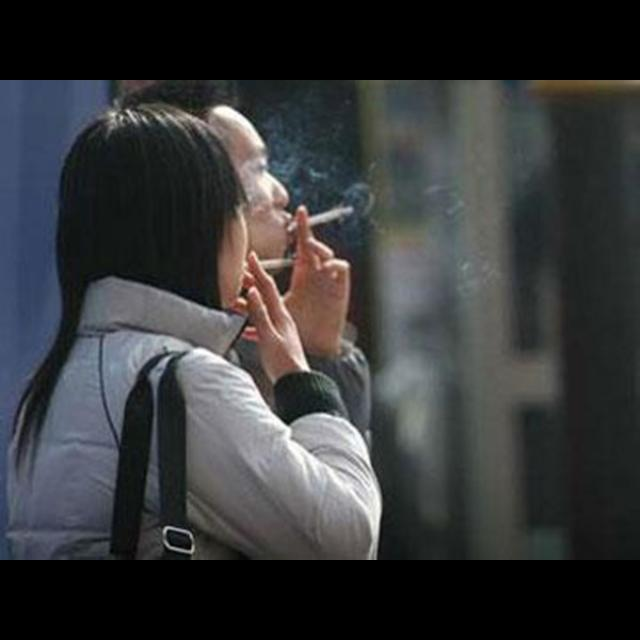rokok: (300, 198, 354, 232), (262, 256, 306, 276)
